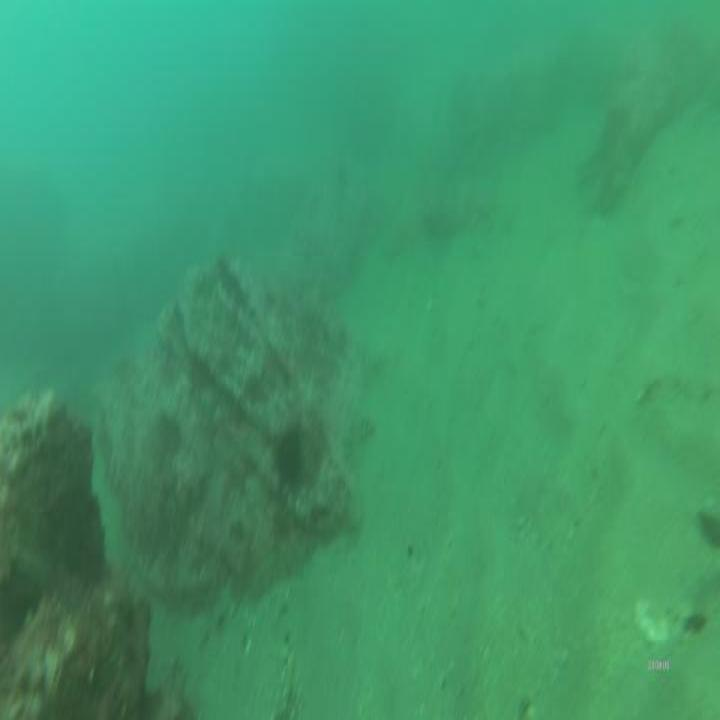echinus: (273, 414, 309, 496)
